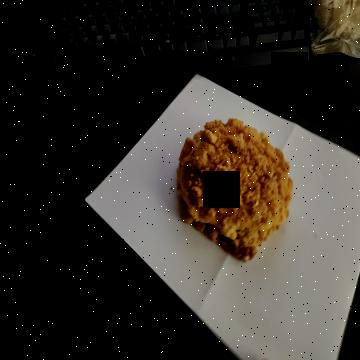soboru_bread: (180, 117, 292, 268)
